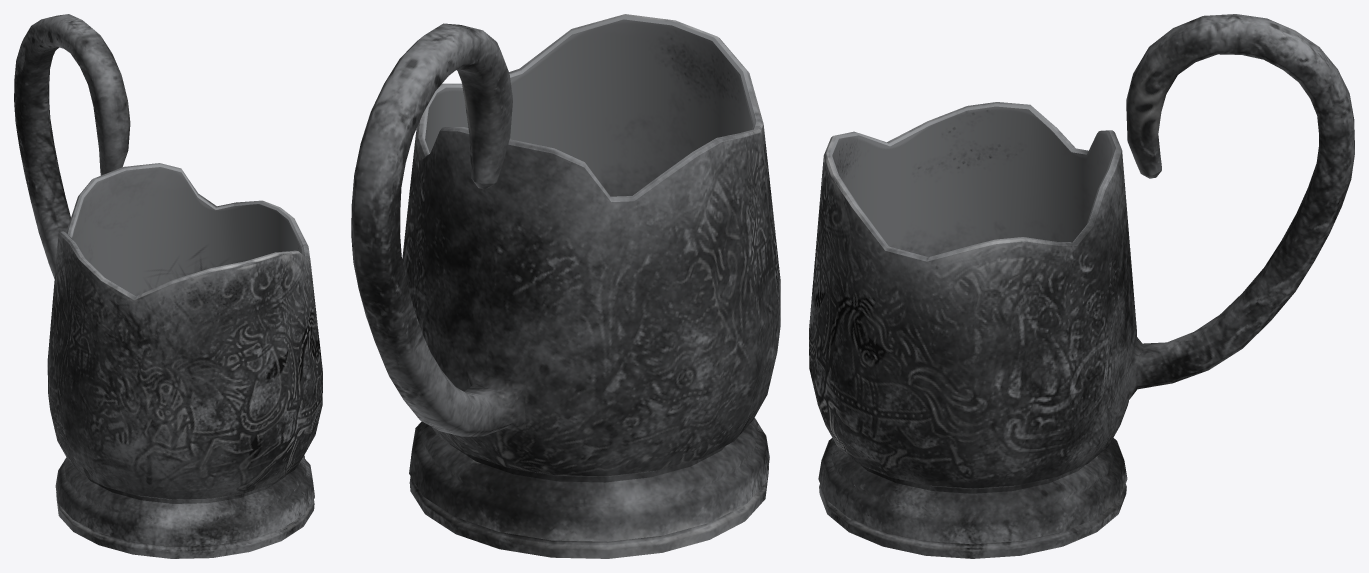
The picture shows the model from 3 angles, left to right: view 1: azimuth 30°, elevation 25°; view 2: azimuth 150°, elevation 25°; view 3: azimuth 270°, elevation 25°; orthographic projection. The views are drawn at different scales.
Visible parts, largest first — view 1: Cup_Holder_Lol_Polya__with_UV:pCube3; view 2: Cup_Holder_Lol_Polya__with_UV:pCube3; view 3: Cup_Holder_Lol_Polya__with_UV:pCube3.
Boxes of the visible parts, left/top/right/bottom form: Cup_Holder_Lol_Polya__with_UV:pCube3: left=14, top=14, right=322, bottom=558; Cup_Holder_Lol_Polya__with_UV:pCube3: left=351, top=14, right=780, bottom=558; Cup_Holder_Lol_Polya__with_UV:pCube3: left=809, top=14, right=1354, bottom=558.
Bounding box in the file's own units: 2.15 × 3.44 × 3.58.
Materials: 1 (1 with a texture image).
